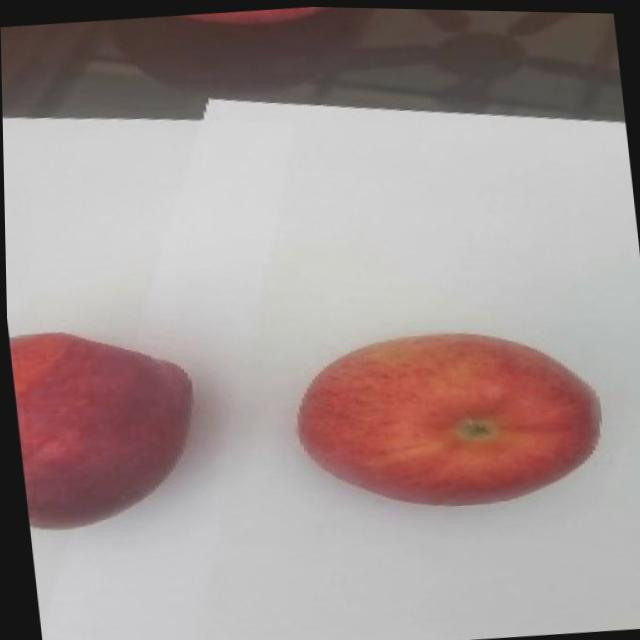Apple: (284, 313, 608, 519), (6, 317, 203, 533)
